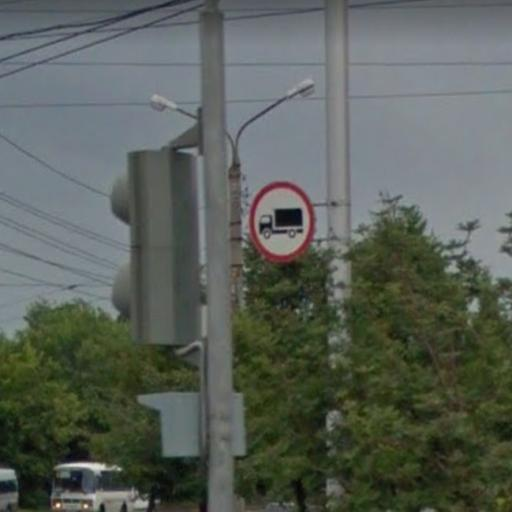traffic_sign: (247, 181, 320, 267)
